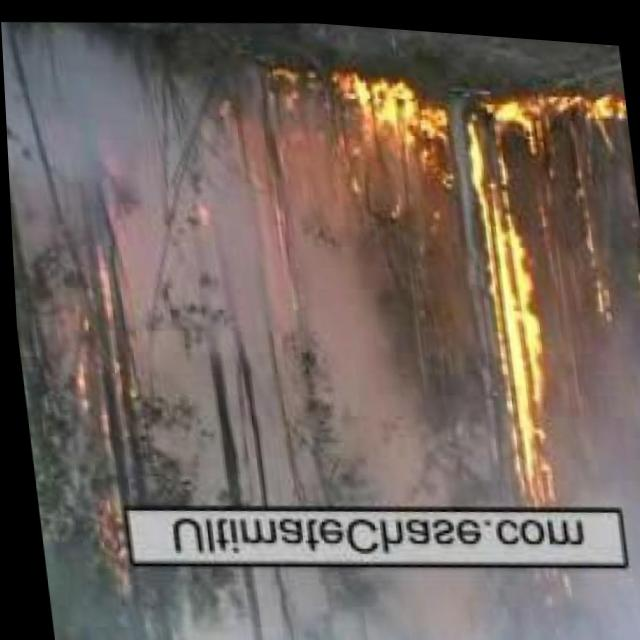Fire: (455, 94, 559, 557), (37, 202, 127, 424), (340, 62, 446, 205), (570, 141, 620, 309), (520, 75, 629, 135), (87, 482, 140, 594)
